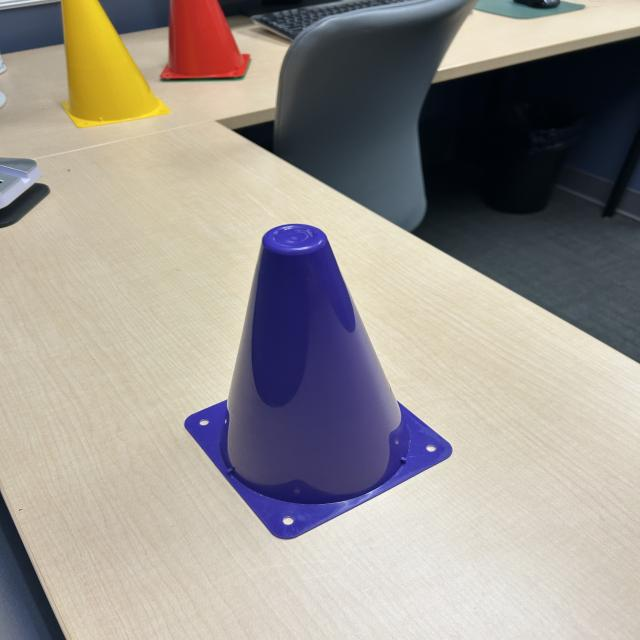purple cone: (183, 220, 459, 546)
